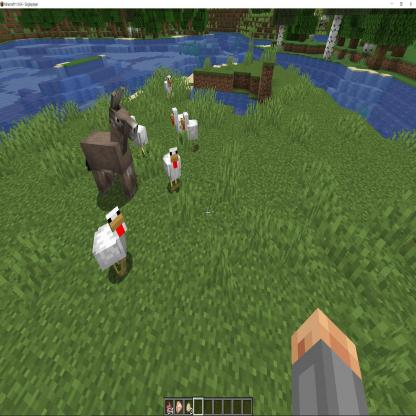minecraft-pigs: (212, 168, 261, 274)
